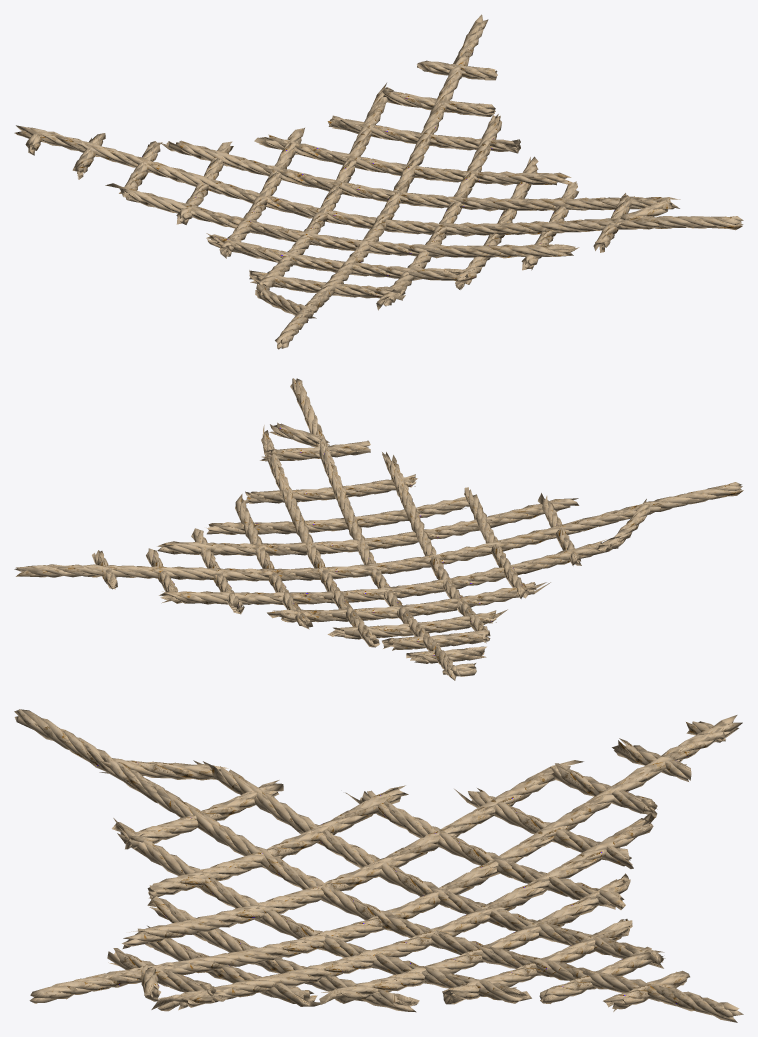
Rendered from rope_net.glb.
3 renders of one model, top to bottom at view 1: azimuth 30°, elevation 25°; view 2: azimuth 150°, elevation 25°; view 3: azimuth 270°, elevation 25°, orthographic. The views are drawn at different scales.
Parts seen in each view (by area): view 1: Circle.012; view 2: Circle.012; view 3: Circle.012.
Part boxes in pixels (left/top/right/bottom): Circle.012: left=14, top=14, right=743, bottom=349; Circle.012: left=14, top=378, right=743, bottom=680; Circle.012: left=14, top=709, right=743, bottom=1022.
Bounding box in the file's own units: 5.49 × 0.6288 × 5.54.
1 material, 1 textured.
